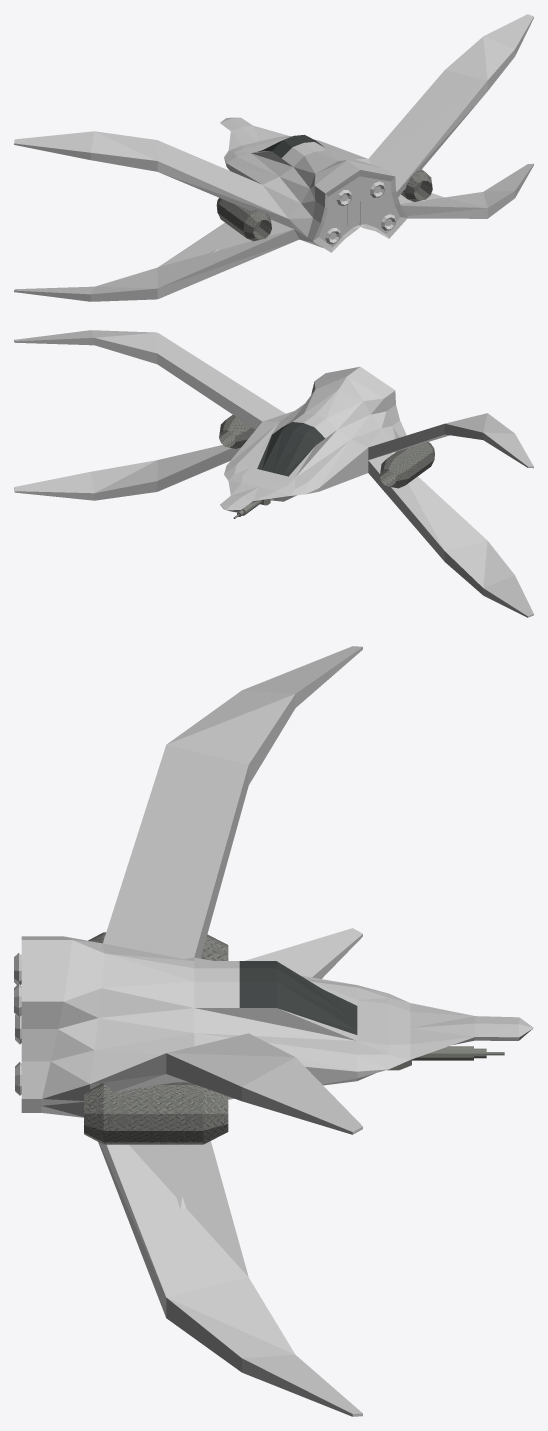
Rendered from T4_viper.fbx.
3 renders of one model, top to bottom at view 1: azimuth 30°, elevation 25°; view 2: azimuth 150°, elevation 25°; view 3: azimuth 270°, elevation 25°, orthographic. The views are drawn at different scales.
Visible parts, largest first — view 1: Viper_Body; view 2: Viper_Body; view 3: Viper_Body.
Part boxes in pixels (x1,y1,x2,y2): Viper_Body: (14, 14, 533, 301); Viper_Body: (14, 330, 533, 617); Viper_Body: (14, 646, 533, 1416).
Size of the model in its own units: 23.71 by 7.1 by 10.72.
